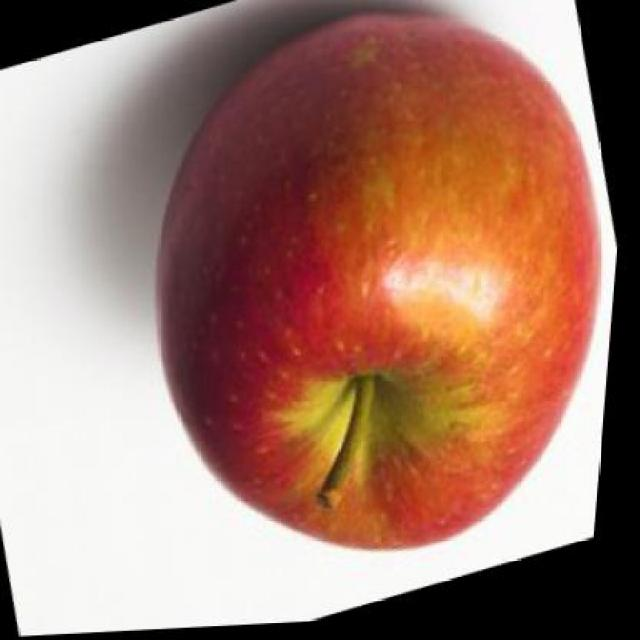Fresh Apple: (157, 29, 595, 544)
